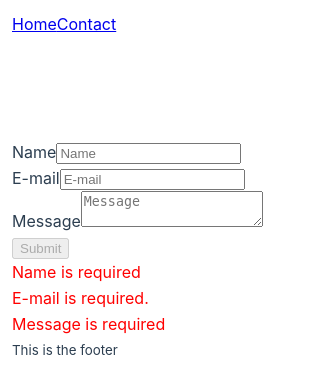
Test: Contact Form › should fill in the contact form and submit successfully
Type "John Doe" into the field with test id "name-input" at (149, 154), box 56,143 -> 241,164
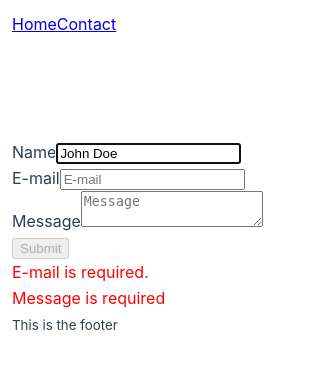
Type "johndoe@example.com" into the field with test id "email-input" at (153, 180), box 60,169 -> 245,190
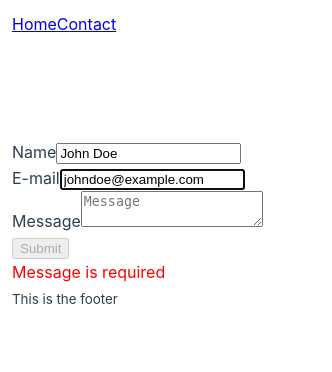
Type "This is a test message" into the text box with test id "message-input" at (172, 209), box 81,191 -> 263,227
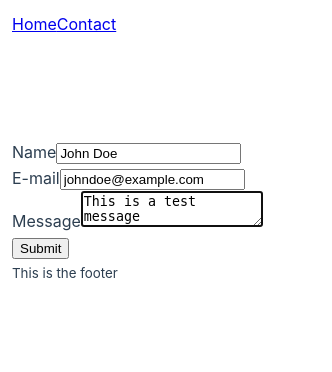
Click the button with test id "submit-button" at (41, 249), box 12,238 -> 70,259
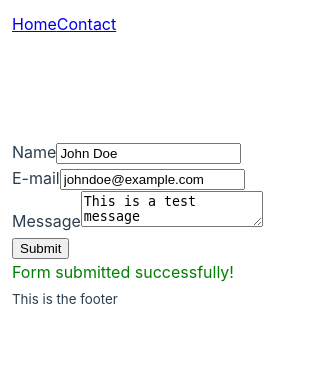
expect the text "Form submitted successfully!" is shown: met, box 12,262 -> 234,282
